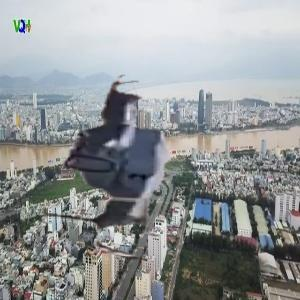drone: (31, 69, 228, 266)
